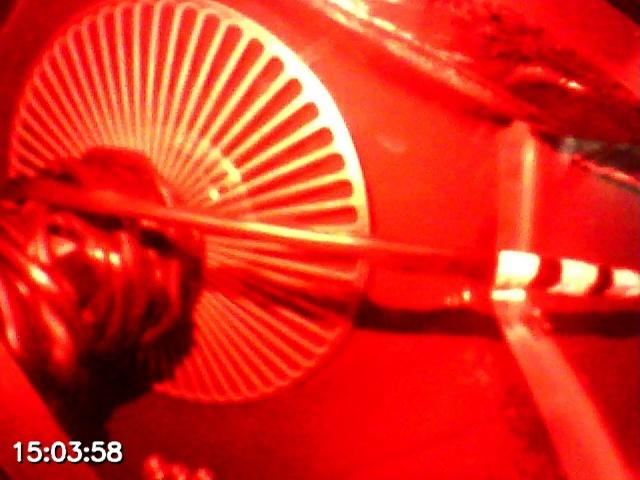white-dots: (496, 249, 640, 302)
